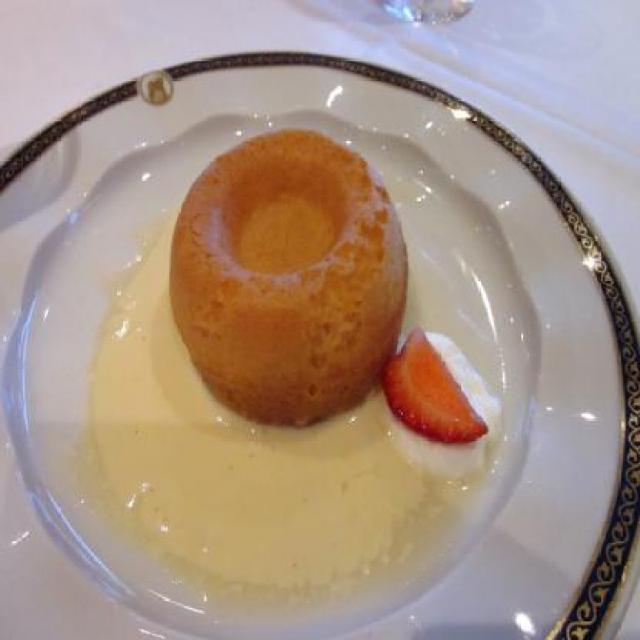Strawberry: (375, 328, 479, 446)
